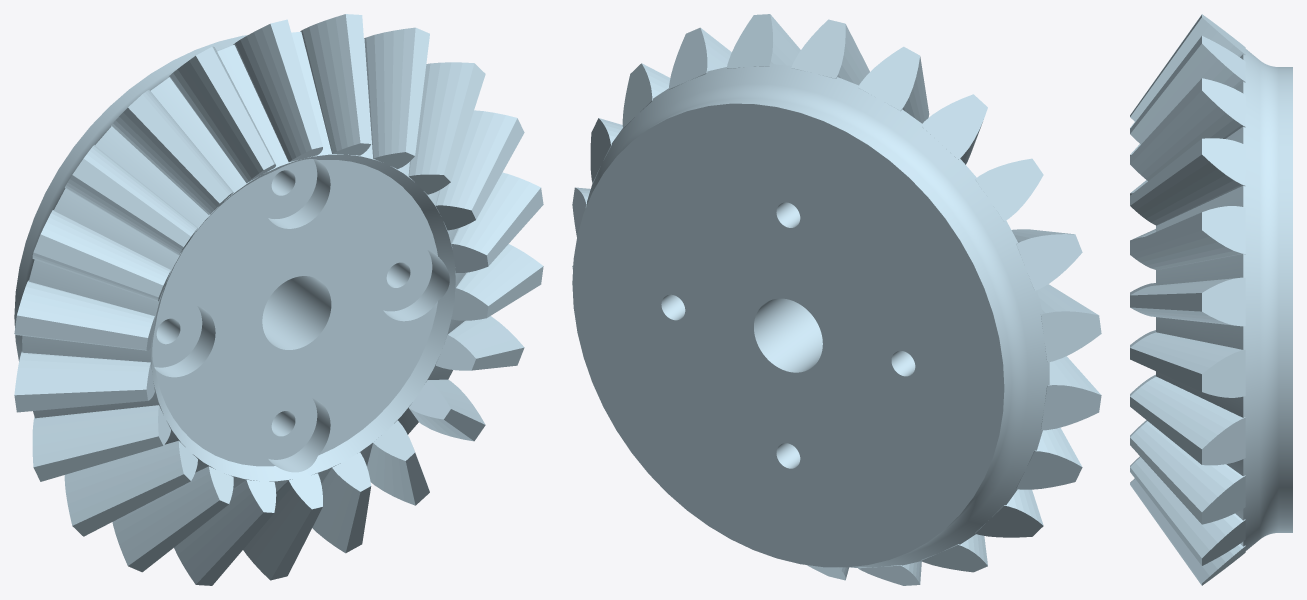
Rendered from Robot_Master Copy 1 - Part 1 (46).gltf.
The picture shows the model from 3 angles, left to right: view 1: azimuth 30°, elevation 25°; view 2: azimuth 150°, elevation 25°; view 3: azimuth 270°, elevation 25°; orthographic projection. The views are drawn at different scales.
Parts seen in each view (by area): view 1: Part 1; view 2: Part 1; view 3: Part 1.
Boxes of the visible parts, left/top/right/bottom form: Part 1: left=14, top=14, right=543, bottom=585; Part 1: left=572, top=14, right=1101, bottom=585; Part 1: left=1130, top=14, right=1292, bottom=585.
Size of the model in its own units: 0.023 by 0.0231 by 0.00656.
